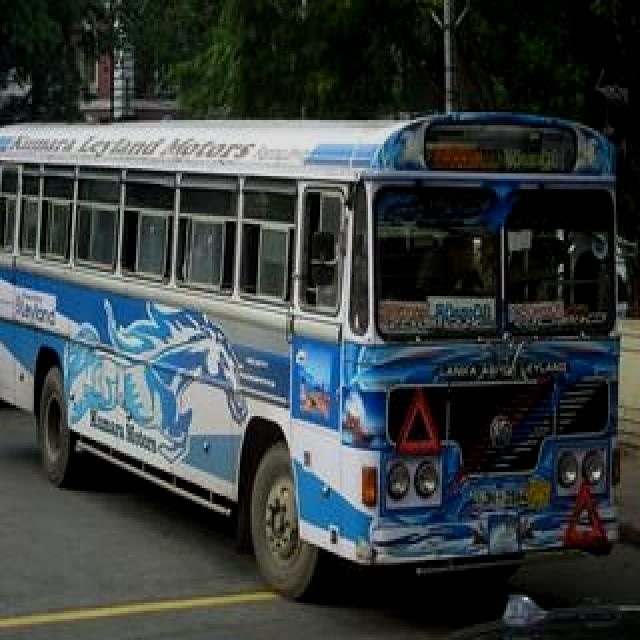Bus: (0, 106, 627, 602)
